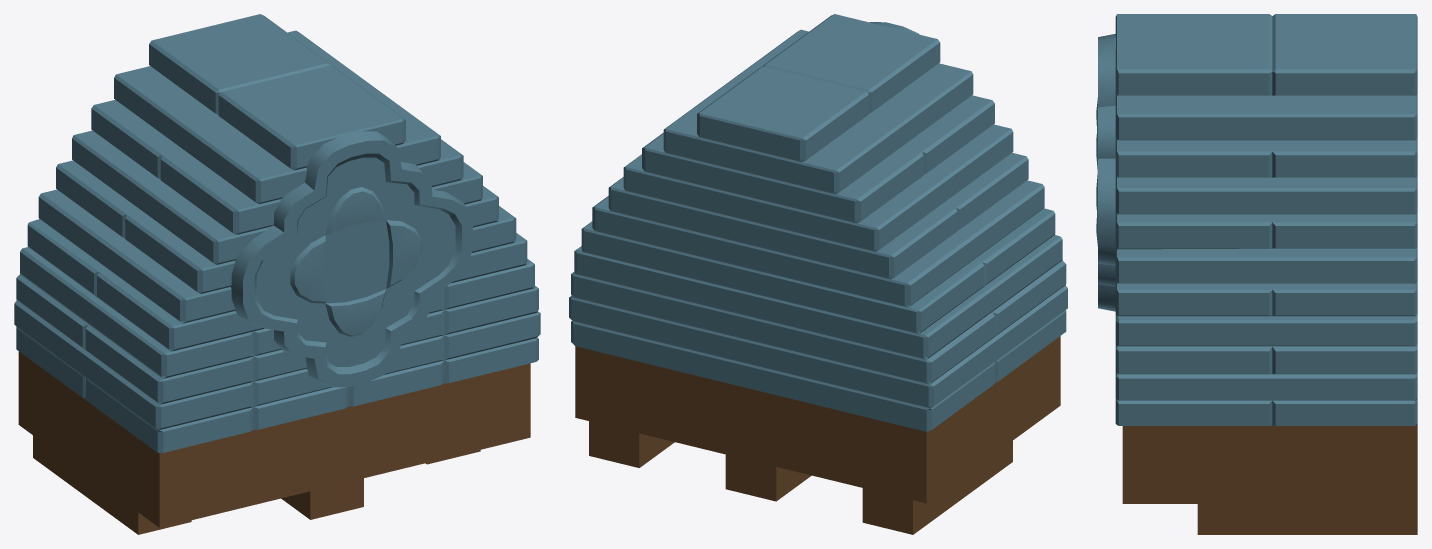
Rendered from BlueRooftop_Decor.fbx.
The picture shows the model from 3 angles, left to right: view 1: azimuth 30°, elevation 25°; view 2: azimuth 150°, elevation 25°; view 3: azimuth 270°, elevation 25°; orthographic projection. The views are drawn at different scales.
Visible parts, largest first — view 1: BlueRooftop_Decor; view 2: BlueRooftop_Decor; view 3: BlueRooftop_Decor.
Boxes of the visible parts, <box> form: BlueRooftop_Decor: <box>14,14,540,534</box>; BlueRooftop_Decor: <box>569,14,1067,534</box>; BlueRooftop_Decor: <box>1096,14,1417,534</box>.
Size of what is drawn, in the model's own units: 80 by 77.28 by 55.32.
